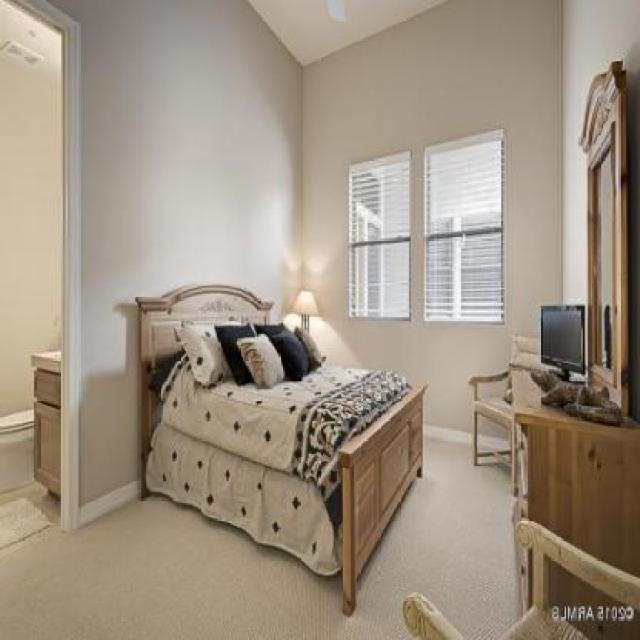floor: (0, 435, 527, 640)
